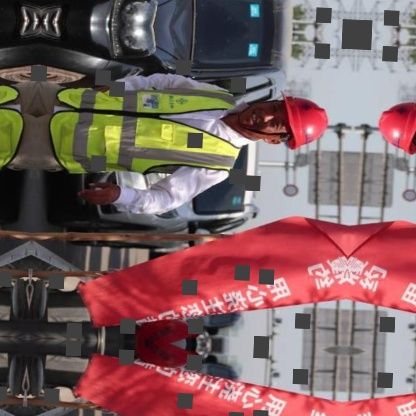red: (269, 84, 333, 159)
vest: (49, 78, 247, 196)
